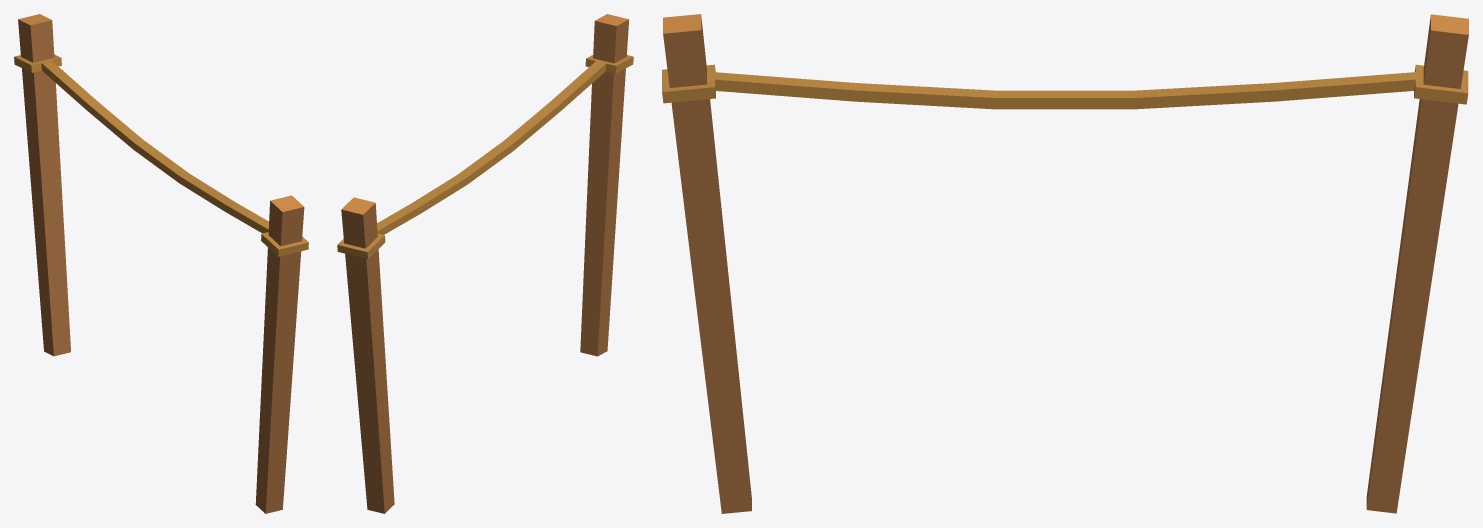
File: Clotheshorse.fbx
3 views of the same model, side by side, from view 1: azimuth 30°, elevation 25°; view 2: azimuth 150°, elevation 25°; view 3: azimuth 270°, elevation 25° (orthographic). The views are drawn at different scales.
Visible parts, largest first — view 1: Clotheshorse; view 2: Clotheshorse; view 3: Clotheshorse.
Part boxes in pixels (box(x1,y1,x2,y2)): Clotheshorse: box(14, 14, 308, 513); Clotheshorse: box(337, 14, 633, 513); Clotheshorse: box(662, 14, 1468, 513).
Size of the model in its own units: 31.31 by 316 by 476.
